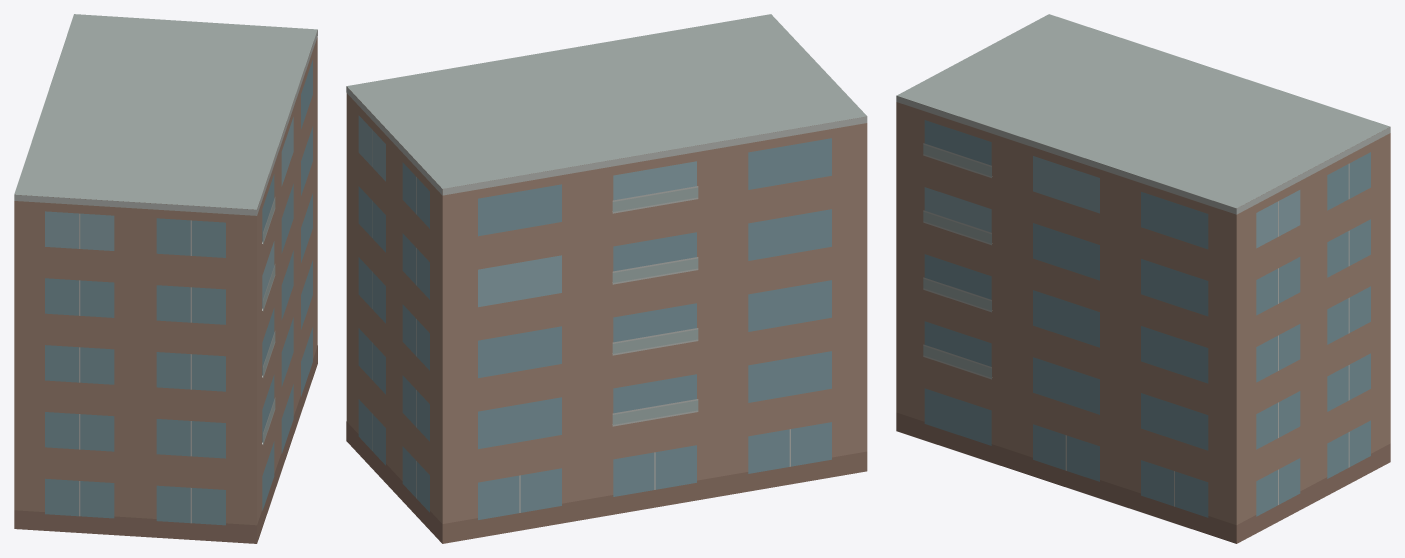
Rendered from survey-upis-32884754.glb.
3 renders of one model, left to right at view 1: azimuth 30°, elevation 25°; view 2: azimuth 150°, elevation 25°; view 3: azimuth 270°, elevation 25°, orthographic. The views are drawn at different scales.
Parts seen in each view (by area): view 1: survey-upis-32884754.tmp; view 2: survey-upis-32884754.tmp; view 3: survey-upis-32884754.tmp.
Boxes of the visible parts, <box> form: survey-upis-32884754.tmp: <box>14,14,317,543</box>; survey-upis-32884754.tmp: <box>346,14,867,543</box>; survey-upis-32884754.tmp: <box>896,14,1390,543</box>.
Bounding box in the file's own units: 16.3 × 13.1 × 17.5.
